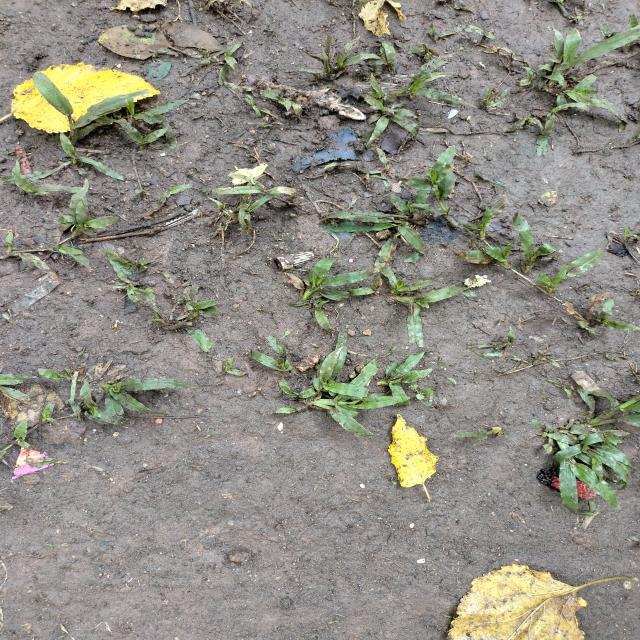bayi: (393, 311, 397, 315), (114, 331, 118, 335)
masker: (424, 387, 435, 398), (416, 391, 425, 402), (409, 384, 420, 391)
rambat bawah: (33, 68, 149, 144), (540, 26, 640, 108), (532, 426, 632, 505), (308, 393, 412, 442), (54, 177, 119, 244), (397, 144, 458, 214), (401, 57, 478, 112), (102, 377, 201, 418), (540, 248, 605, 297), (313, 344, 371, 398), (58, 134, 126, 180), (378, 350, 434, 405), (390, 293, 447, 346), (297, 256, 352, 304), (11, 159, 79, 196), (587, 383, 640, 428), (380, 263, 433, 293), (47, 243, 92, 269)
